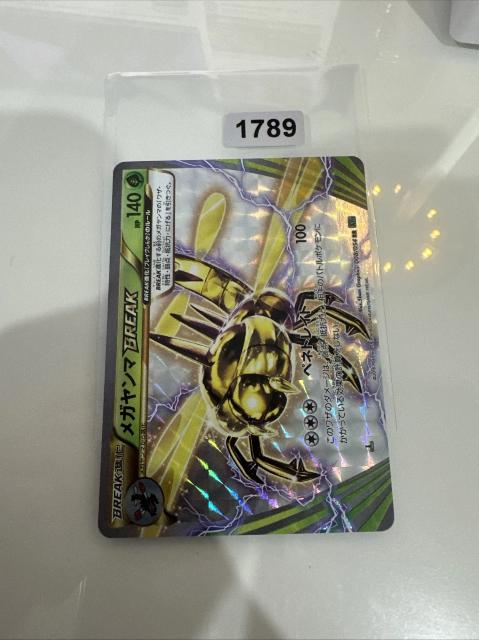Card: (95, 152, 398, 541)
Name: (112, 278, 142, 445)
